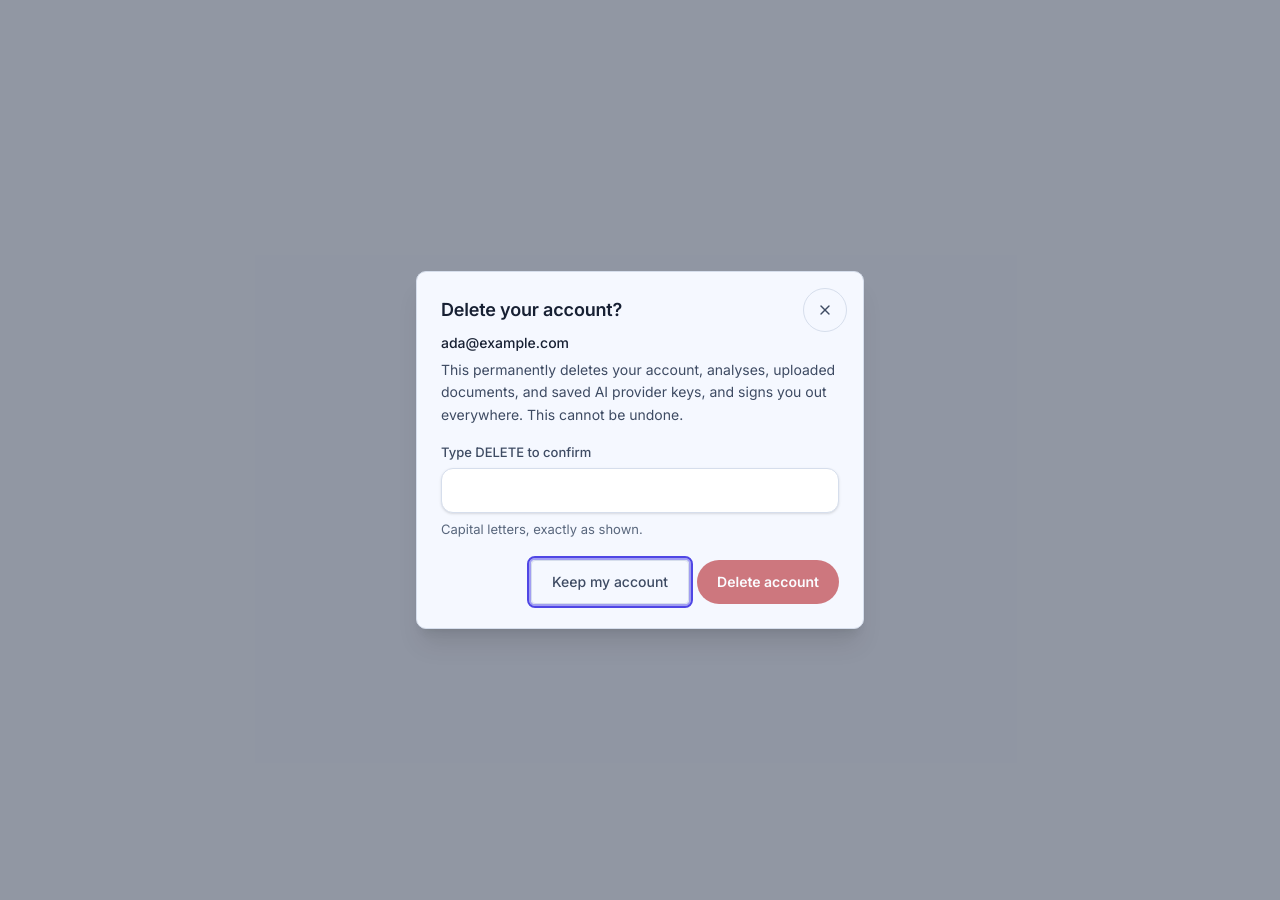
DeleteAccountDialog › a dead session reports honestly instead of guessing the outcome
Type "DELETE" into the field labelled "Type DELETE to confirm" at (640, 491), box [441,468,839,513]
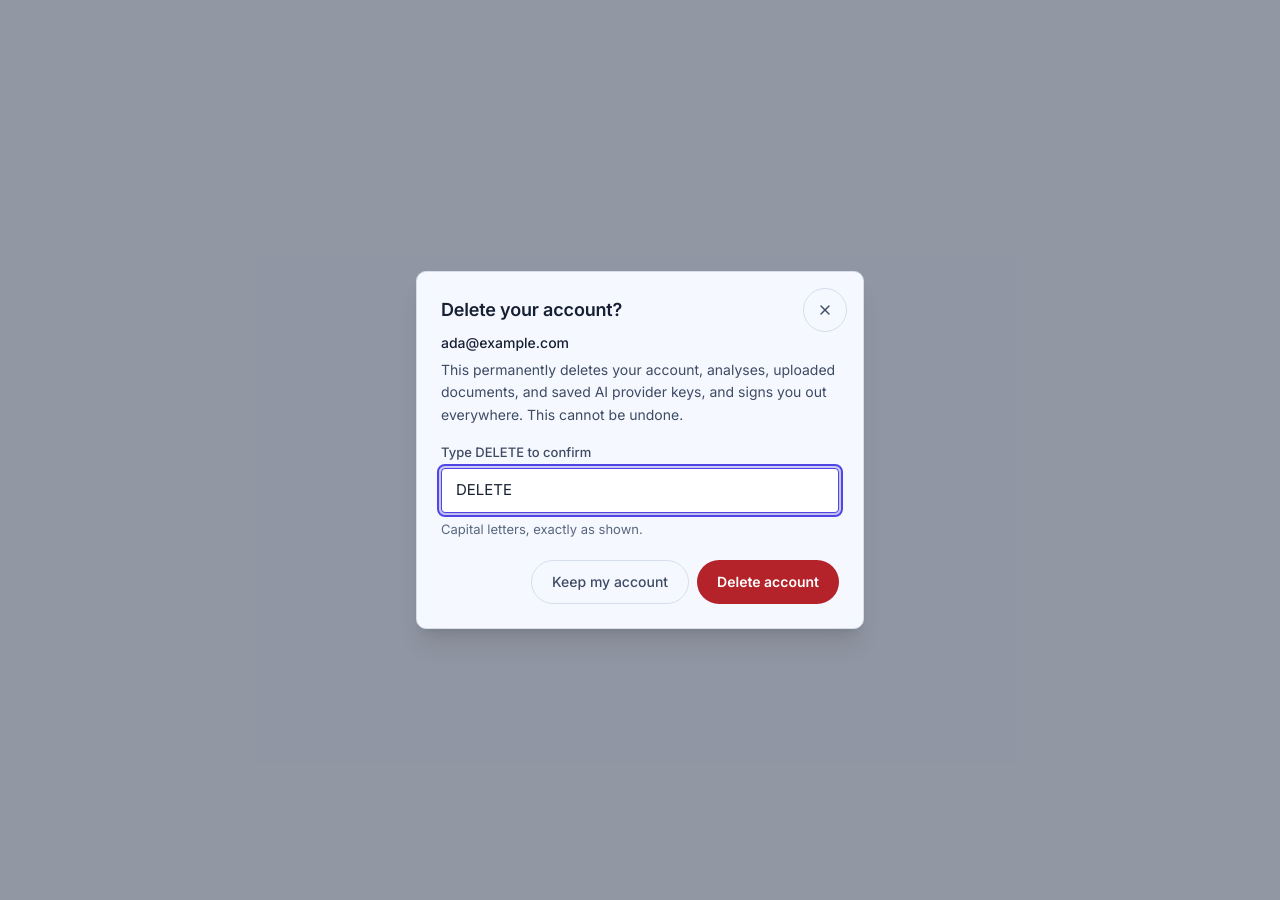
Click the button "Delete account" at (768, 582), box [697,560,839,604]
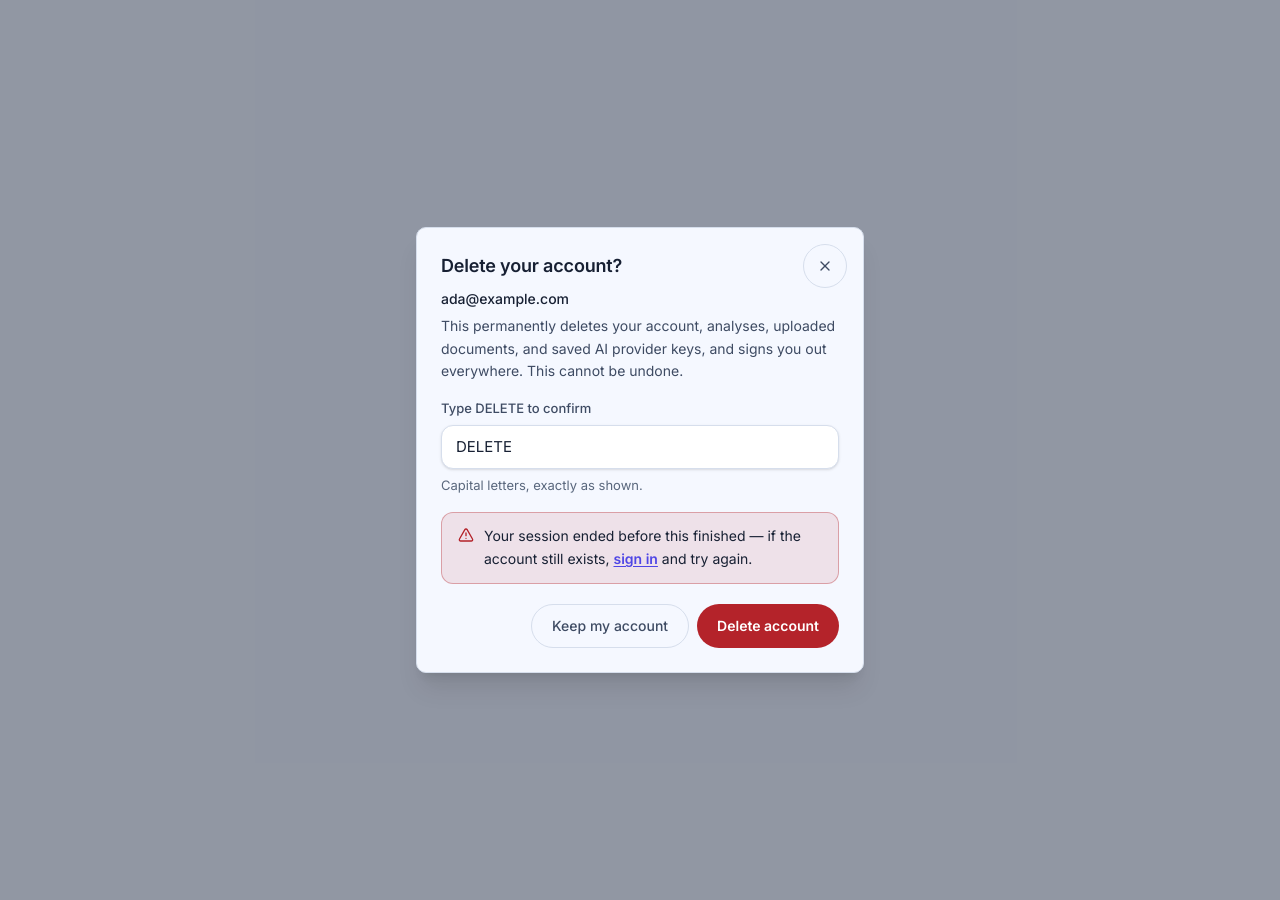
expect the text "session ended before this finished" is shown: met, box [484,527,801,567]
expect the link "sign in" is shown: met, box [614,550,658,567]
